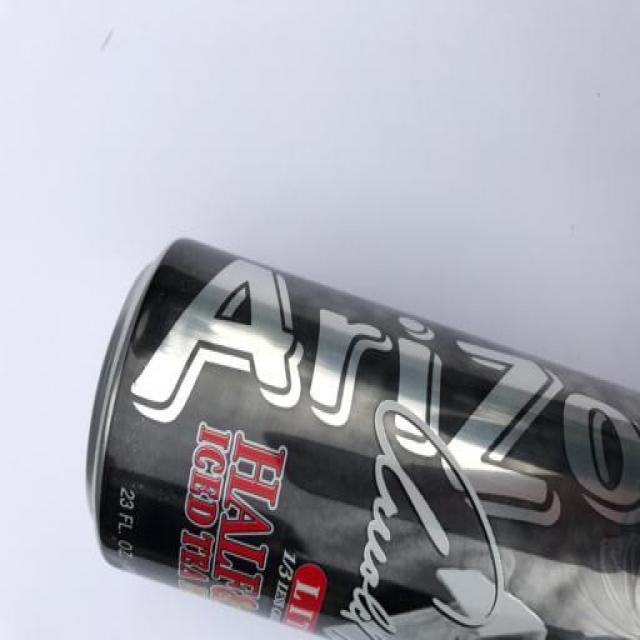metel: (76, 221, 640, 640)
